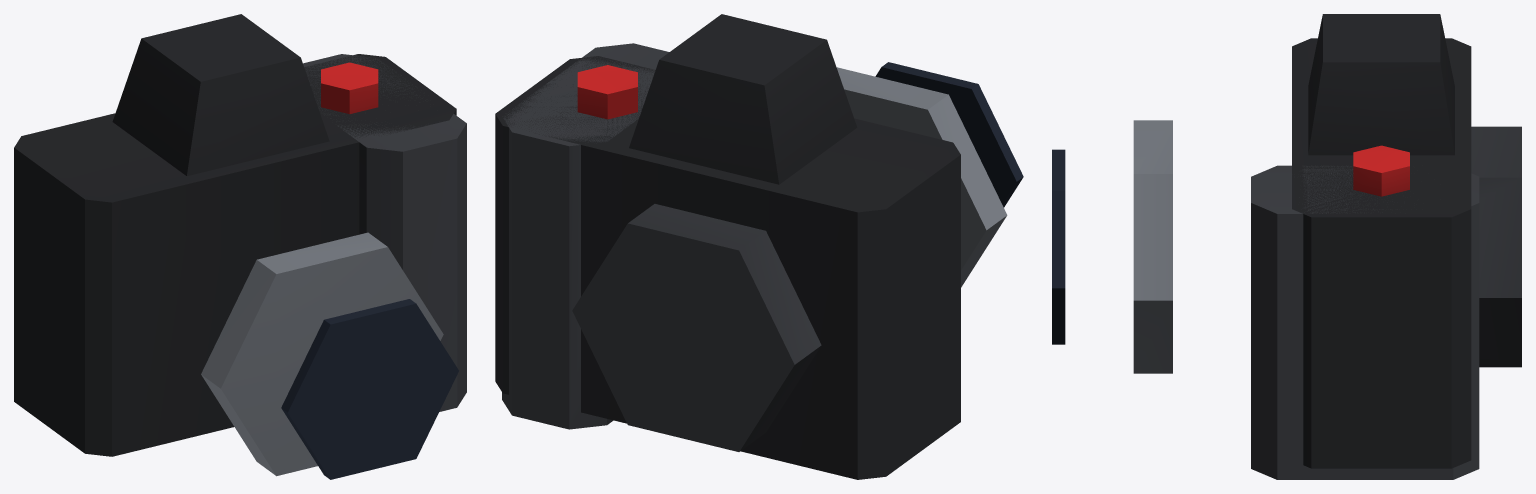
File: held_camera_01.glb
3 renders of one model, left to right at view 1: azimuth 30°, elevation 25°; view 2: azimuth 150°, elevation 25°; view 3: azimuth 270°, elevation 25°, orthographic. The views are drawn at different scales.
Visible parts, largest first — view 1: held_camera_01_mesh; view 2: held_camera_01_mesh; view 3: held_camera_01_mesh.
Part boxes in pixels (left/top/right/bottom): held_camera_01_mesh: left=14, top=14, right=466, bottom=479; held_camera_01_mesh: left=495, top=14, right=1023, bottom=479; held_camera_01_mesh: left=1052, top=14, right=1521, bottom=479.
Bounding box in the file's own units: 0.13 × 0.118 × 0.144.
Materials: 1 (1 with a texture image).
